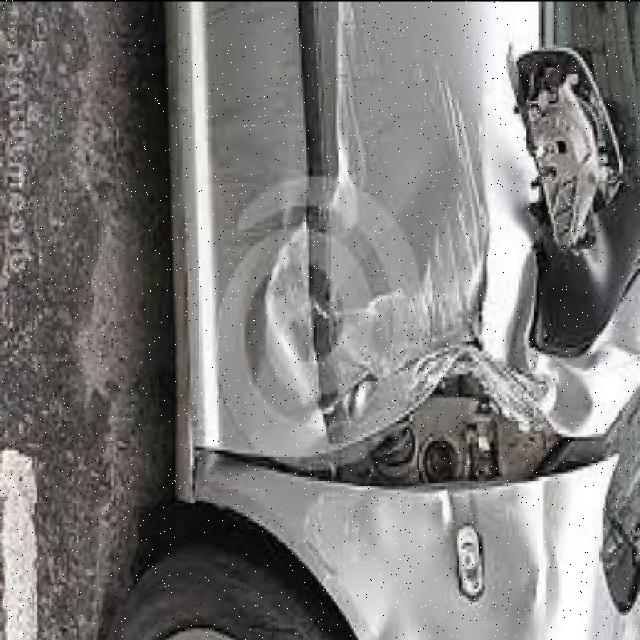damage: (189, 6, 637, 640)
